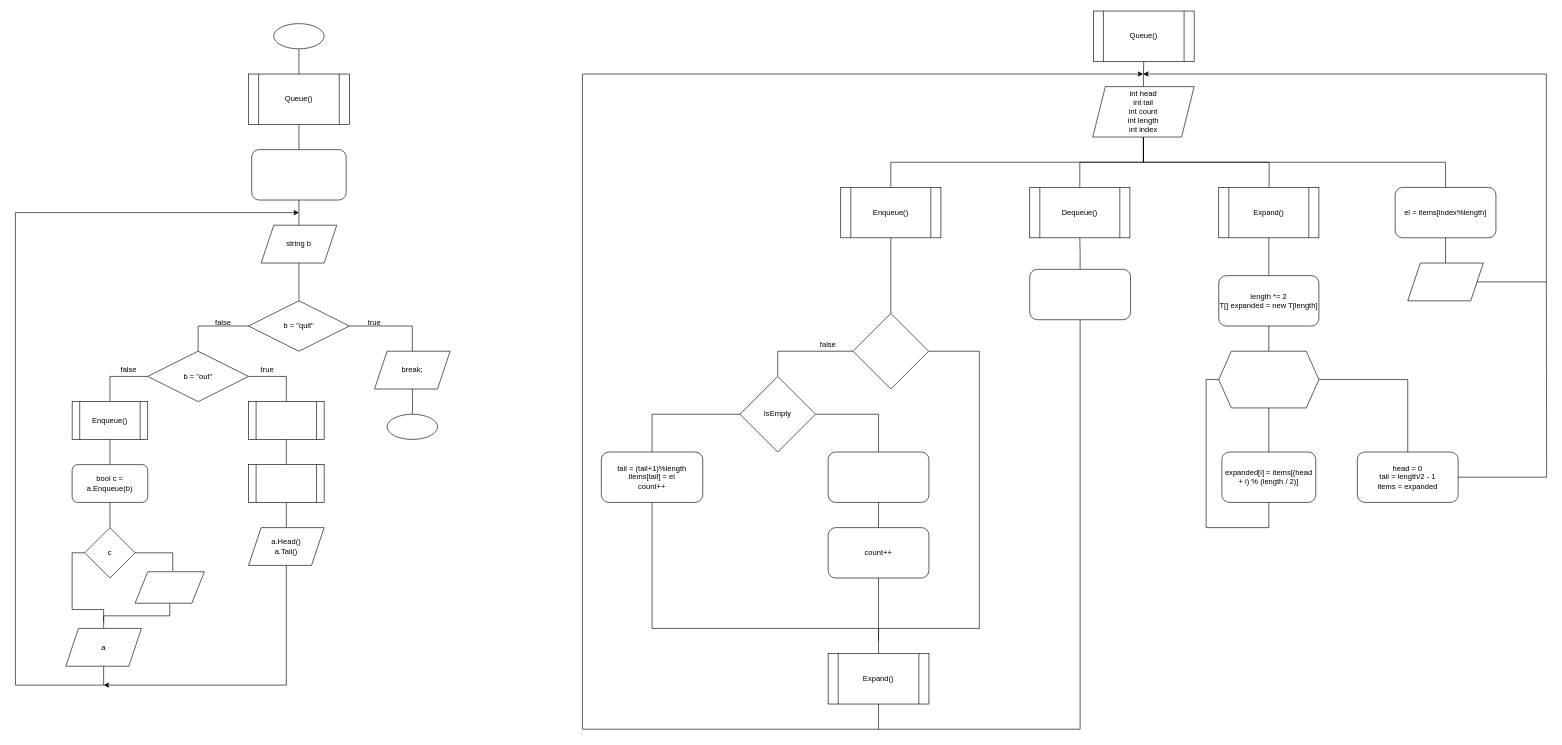
This 1562x745 diagram has some shape labels left out. The centre of each missing label's shape, as x and y in pixels:
"a = Queue<string>(5)" goes at [298,174].
"el" goes at [1445,281].
"End" goes at [412,426].
"Head()" goes at [286,420].
"i=0; i<length/2; i++" goes at [1268,379].
"IsFull" goes at [890,351].
"item[tail] = el" goes at [878,476].
"items[head] = default head = (head+1)%length count--" goes at [1080,294].
"Start" goes at [298,36].
"Tail()" goes at [286,483].
"Черга ++" goes at [169,587].
